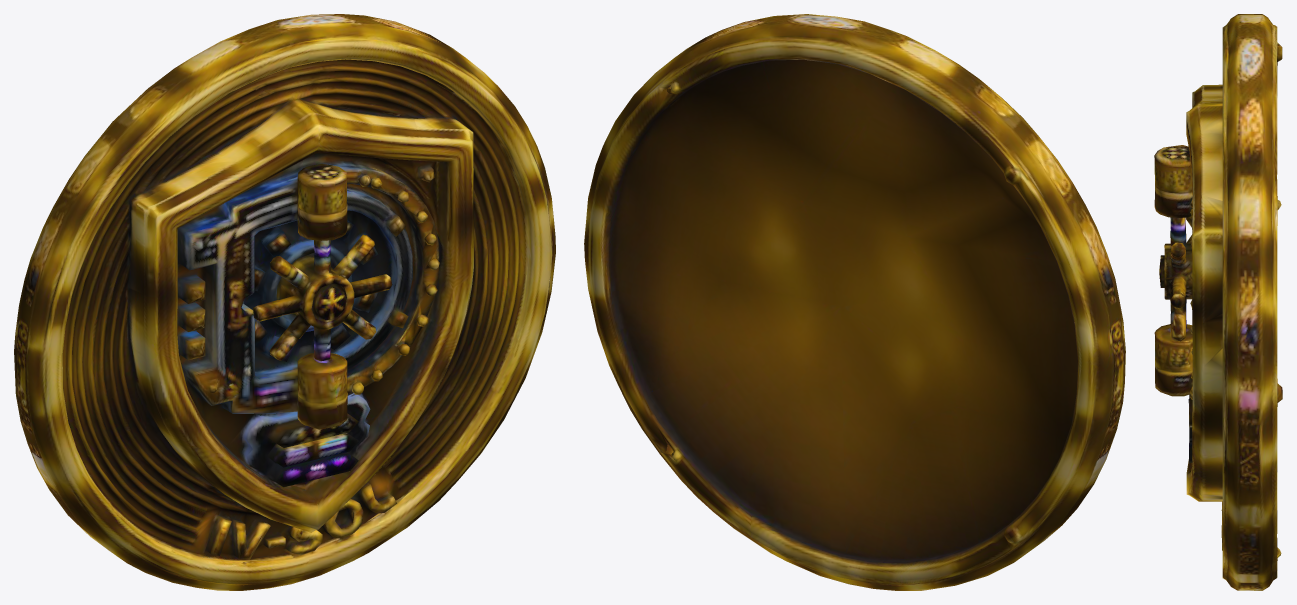
The model's file is goldie_ivsol.glb.
The picture shows the model from 3 angles, left to right: view 1: azimuth 30°, elevation 25°; view 2: azimuth 150°, elevation 25°; view 3: azimuth 270°, elevation 25°; orthographic projection. The views are drawn at different scales.
Visible parts, largest first — view 1: tripo_node_a923db6f-f369-42fd-8b5b-883f6f5626f0; view 2: tripo_node_a923db6f-f369-42fd-8b5b-883f6f5626f0; view 3: tripo_node_a923db6f-f369-42fd-8b5b-883f6f5626f0.
Boxes of the visible parts, bbox=[...] form: tripo_node_a923db6f-f369-42fd-8b5b-883f6f5626f0: bbox=[14, 14, 555, 590]; tripo_node_a923db6f-f369-42fd-8b5b-883f6f5626f0: bbox=[584, 14, 1125, 590]; tripo_node_a923db6f-f369-42fd-8b5b-883f6f5626f0: bbox=[1154, 14, 1282, 590].
Bounding box in the file's own units: 0.9787 × 0.9793 × 0.2167.
1 material, 1 textured.
